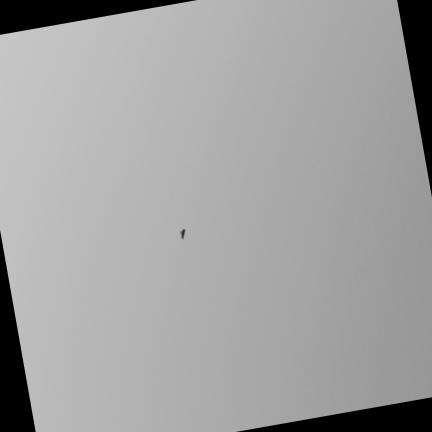Shahed: (179, 227, 186, 240)
